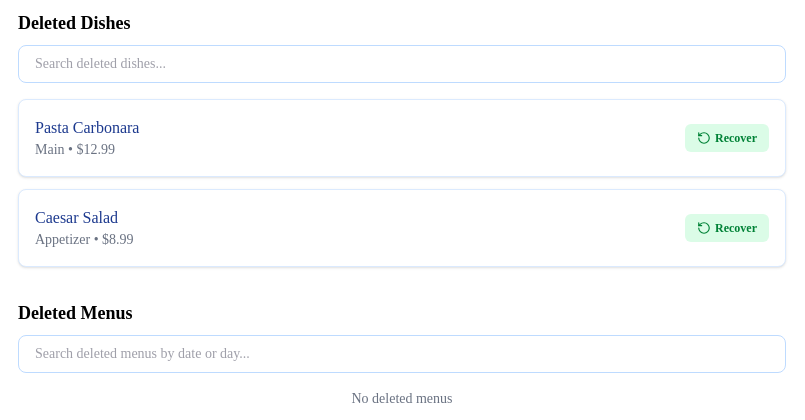
TrashBin › Search Functionality › filters dishes by category when searching
This screenshot has width=805, height=420.
Check: the text "Pasta Carbonara" is shown, box [35,116,139,140]
Type "appetizer" into the field with placeholder "Search deleted dishes...".
click(402, 64); type("appetizer")  # box [18,45,786,83]
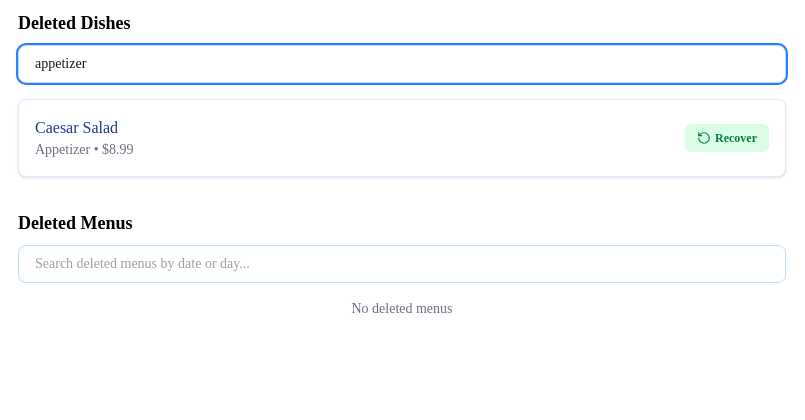
Check: the text "Caesar Salad" is shown, box [35,119,118,136]
Check: the text "Pasta Carbonara" is gone
